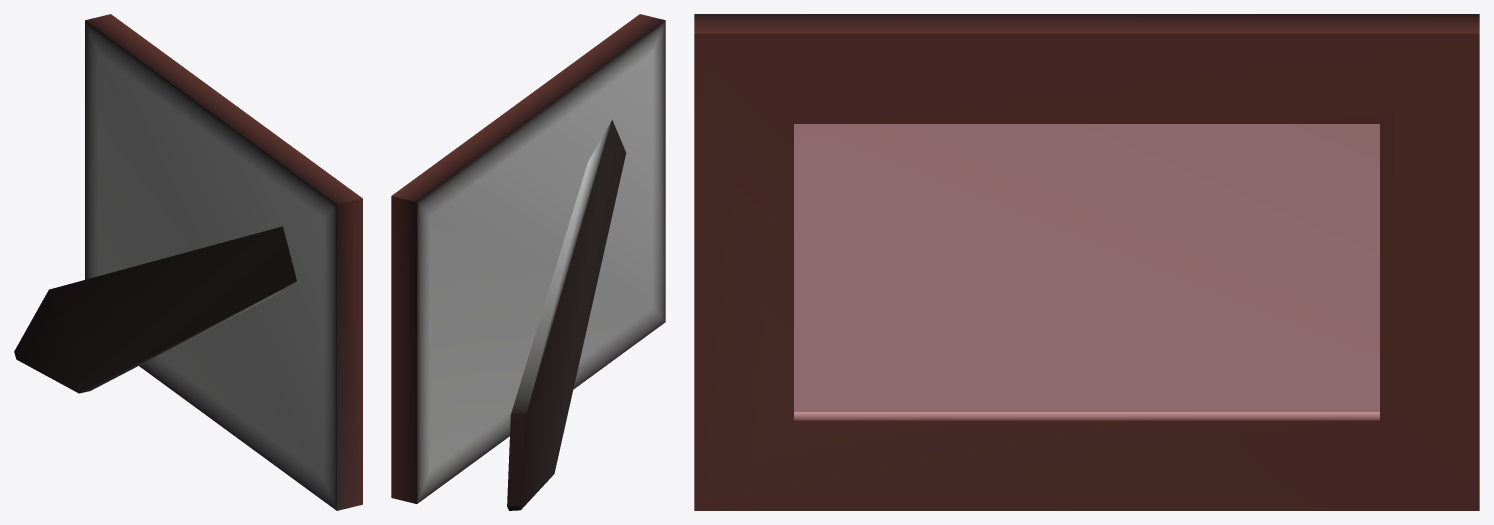
The model's file is PhotoFrame.fbx.
3 views of the same model, side by side, from view 1: azimuth 30°, elevation 25°; view 2: azimuth 150°, elevation 25°; view 3: azimuth 270°, elevation 25° (orthographic). The views are drawn at different scales.
Parts seen in each view (by area): view 1: PhotoFrame; view 2: PhotoFrame; view 3: PhotoFrame.
Boxes of the visible parts, left/top/right/bottom form: PhotoFrame: left=14, top=14, right=362, bottom=510; PhotoFrame: left=391, top=14, right=665, bottom=510; PhotoFrame: left=694, top=14, right=1479, bottom=510.
Size of the model in its own units: 173 by 454 by 671.
